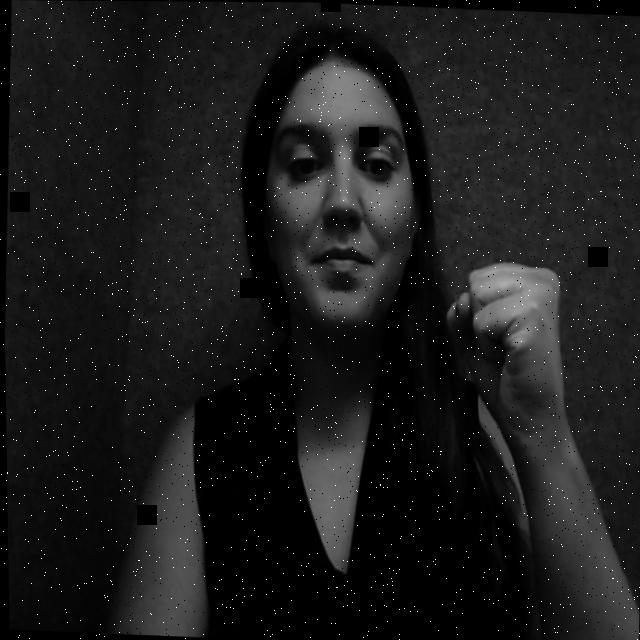Rock: (430, 230, 595, 438)
